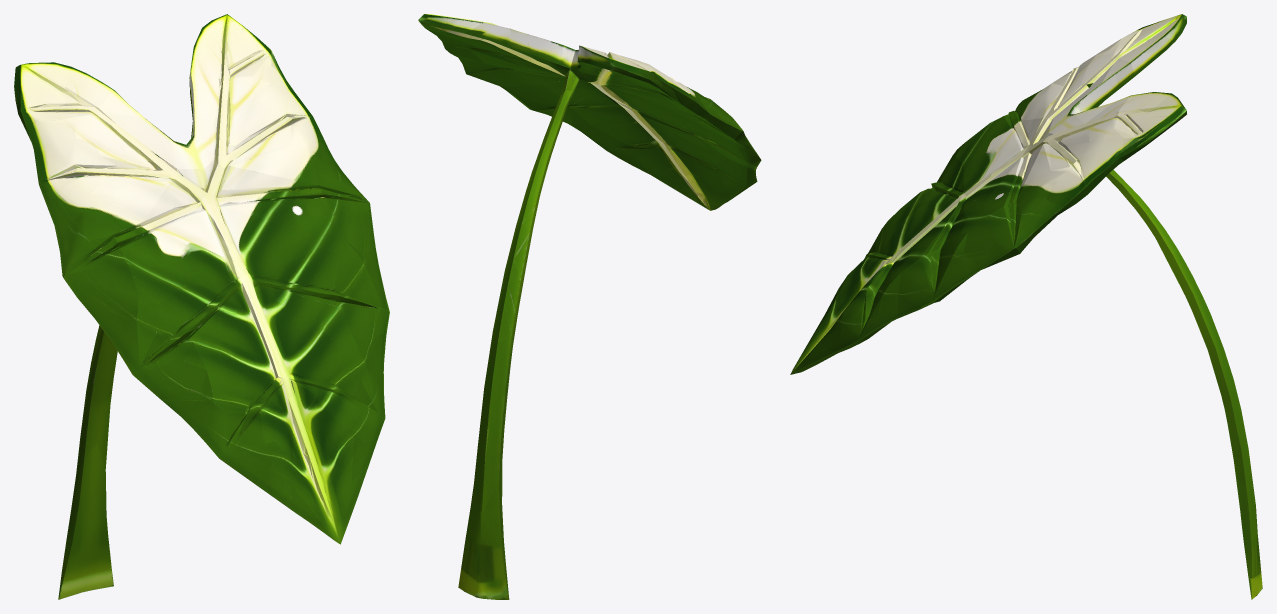
Rendered from al_leaf_mature_half.glb.
3 renders of one model, left to right at view 1: azimuth 30°, elevation 25°; view 2: azimuth 150°, elevation 25°; view 3: azimuth 270°, elevation 25°, orthographic. The views are drawn at different scales.
Size of the model in its own units: 1.05 by 1.9 by 1.54.
Materials: 1 (1 with a texture image).
